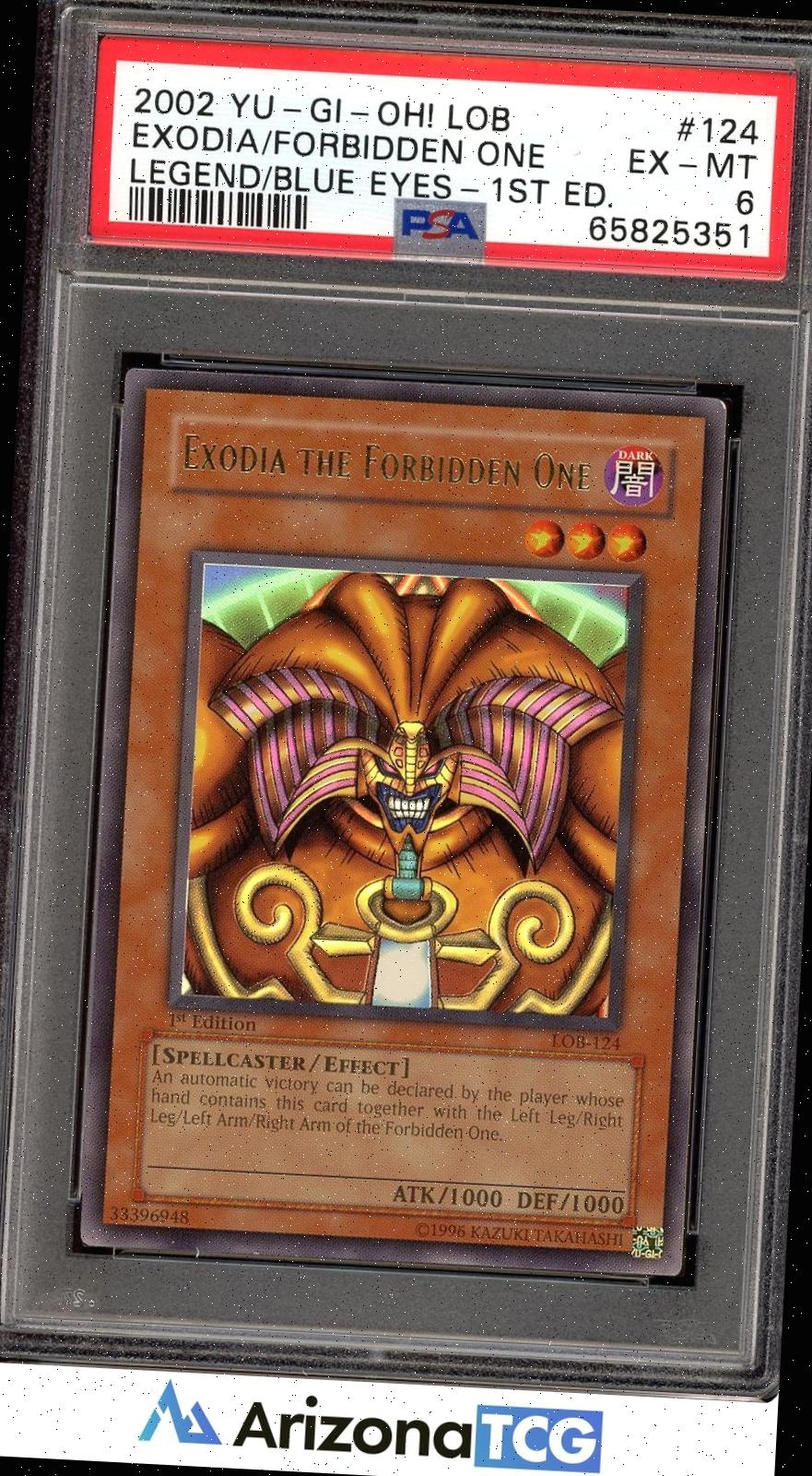card-2UtV: (80, 367, 727, 1276)
